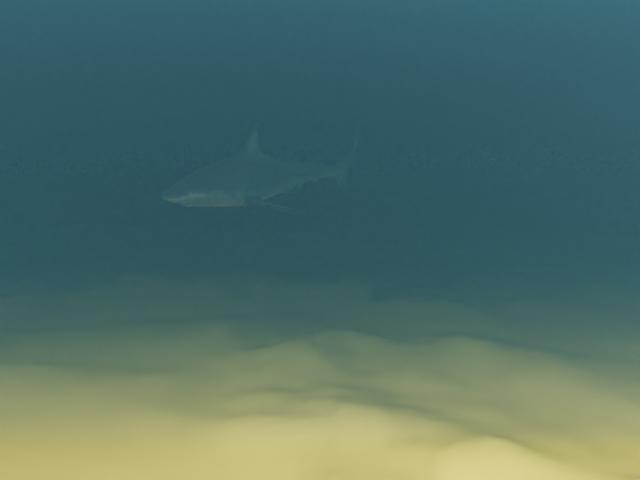Carribean Shark.001: (161, 124, 359, 213)
